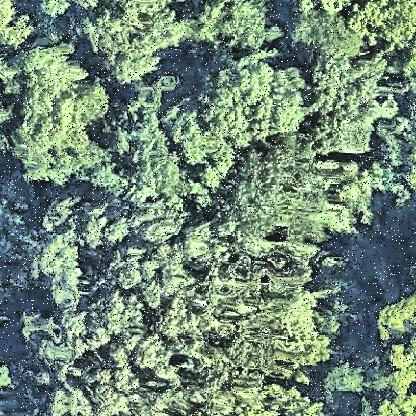tree-top: (106, 84, 238, 208), (8, 49, 110, 180), (214, 145, 327, 257), (202, 60, 314, 146), (302, 53, 387, 159), (87, 2, 183, 89), (189, 3, 285, 54), (37, 231, 97, 311), (295, 11, 367, 61), (348, 2, 416, 48), (377, 339, 416, 396), (321, 356, 367, 402), (372, 295, 416, 341)
